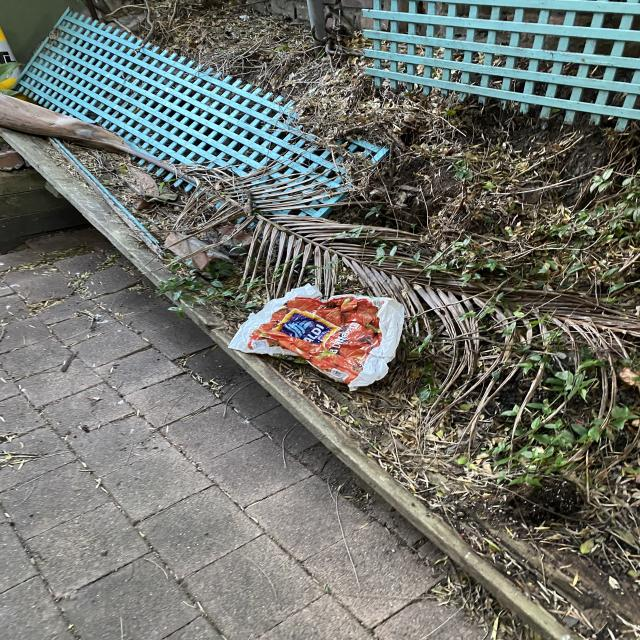bag: (224, 281, 413, 394)
